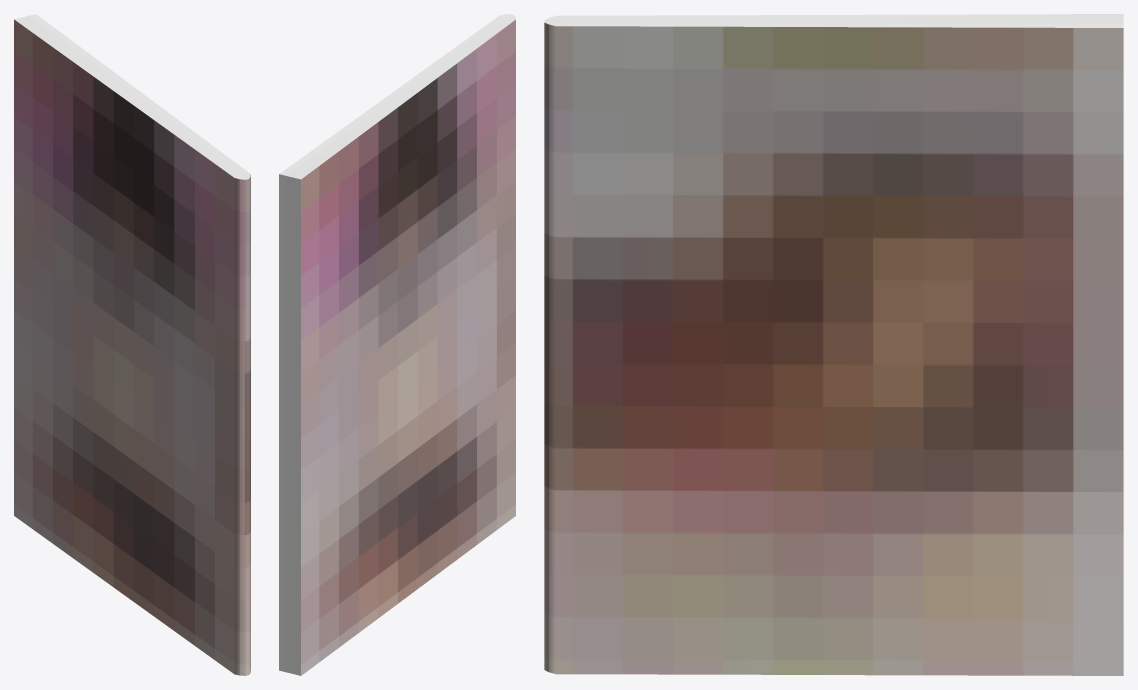
The model's file is erotsu1.fbx.
3 renders of one model, left to right at view 1: azimuth 30°, elevation 25°; view 2: azimuth 150°, elevation 25°; view 3: azimuth 270°, elevation 25°, orthographic. The views are drawn at different scales.
Parts seen in each view (by area): view 1: erotsu1; view 2: erotsu1; view 3: erotsu1.
Part boxes in pixels (x1,y1,x2,y2): erotsu1: (14, 14, 250, 675); erotsu1: (279, 14, 515, 675); erotsu1: (544, 14, 1123, 675).
Size of the model in its own units: 1.2 by 25.8 by 20.92.
